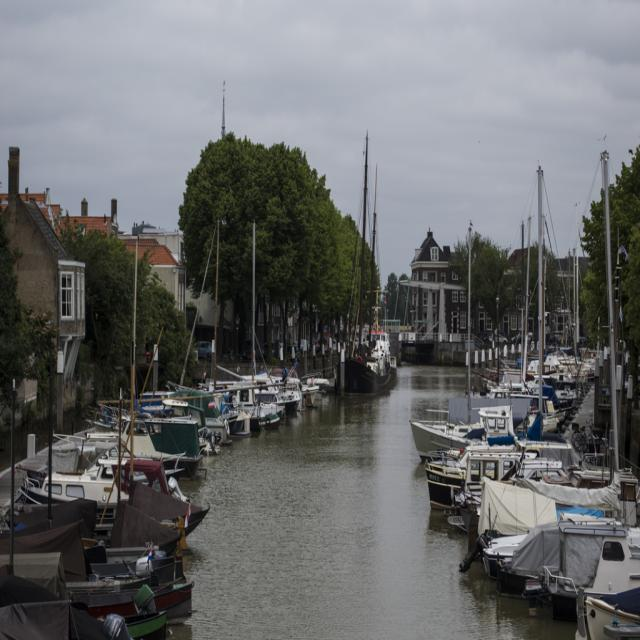Boat: (0, 216, 334, 640), (409, 132, 640, 639), (332, 129, 394, 391)
